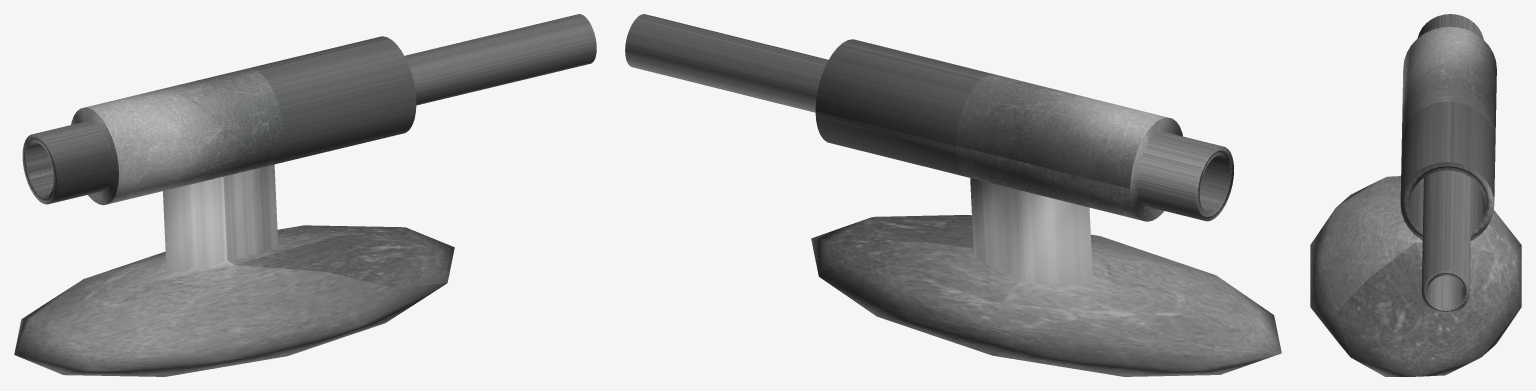
File: pieza9.fbx
3 renders of one model, left to right at view 1: azimuth 30°, elevation 25°; view 2: azimuth 150°, elevation 25°; view 3: azimuth 270°, elevation 25°, orthographic. The views are drawn at different scales.
Visible parts, largest first — view 1: Icosphere.003; view 2: Icosphere.003; view 3: Icosphere.003.
Boxes of the visible parts, x1,y1,x2,y2 form: Icosphere.003: (14, 14, 596, 376); Icosphere.003: (625, 14, 1281, 376); Icosphere.003: (1310, 14, 1521, 376).
Size of the model in its own units: 413 by 152 by 138.
Materials: 2 (2 with a texture image).
